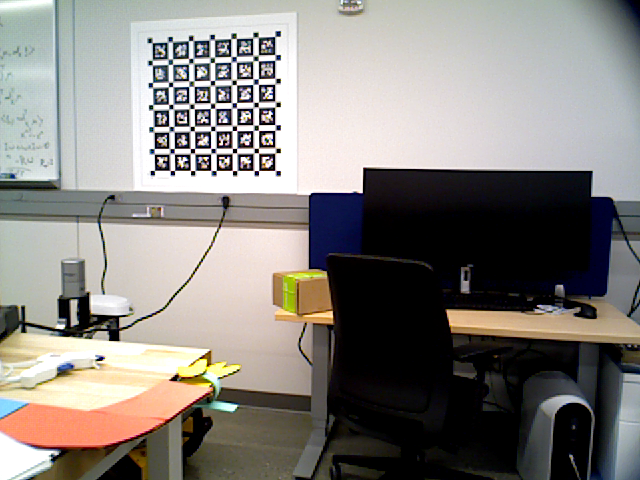painting4: (134, 14, 296, 191)
